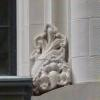Statue: (22, 18, 68, 93)
